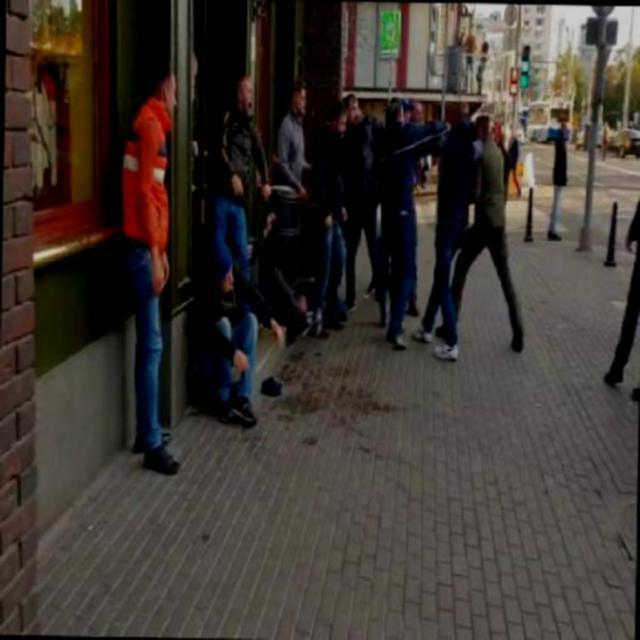fight: (372, 98, 476, 360)
non-fight: (119, 57, 184, 474), (216, 73, 272, 253), (310, 99, 348, 330), (547, 109, 570, 242)
